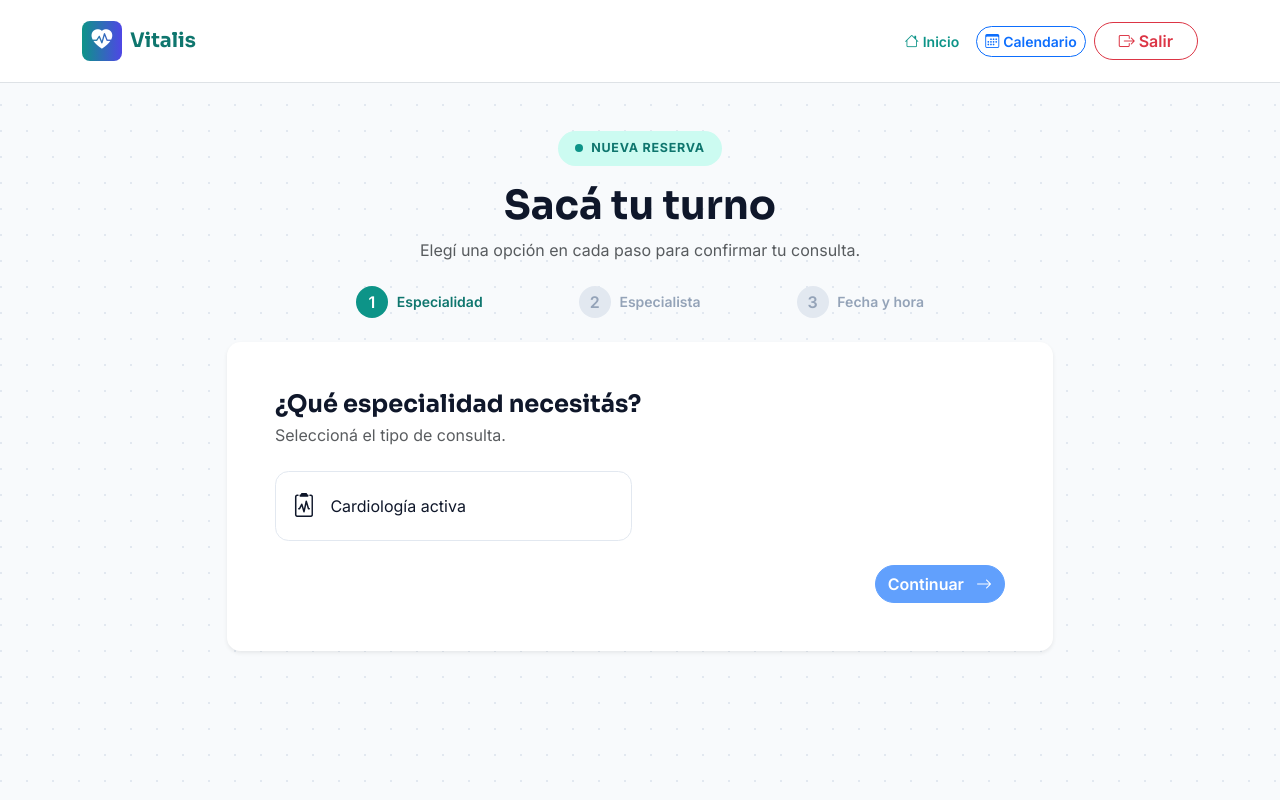
Test: SacarTurno › oculta especialidades y especialistas inactivos al reservar
Click the button "Cardiología activa" at (454, 506), box [275,470,632,540]
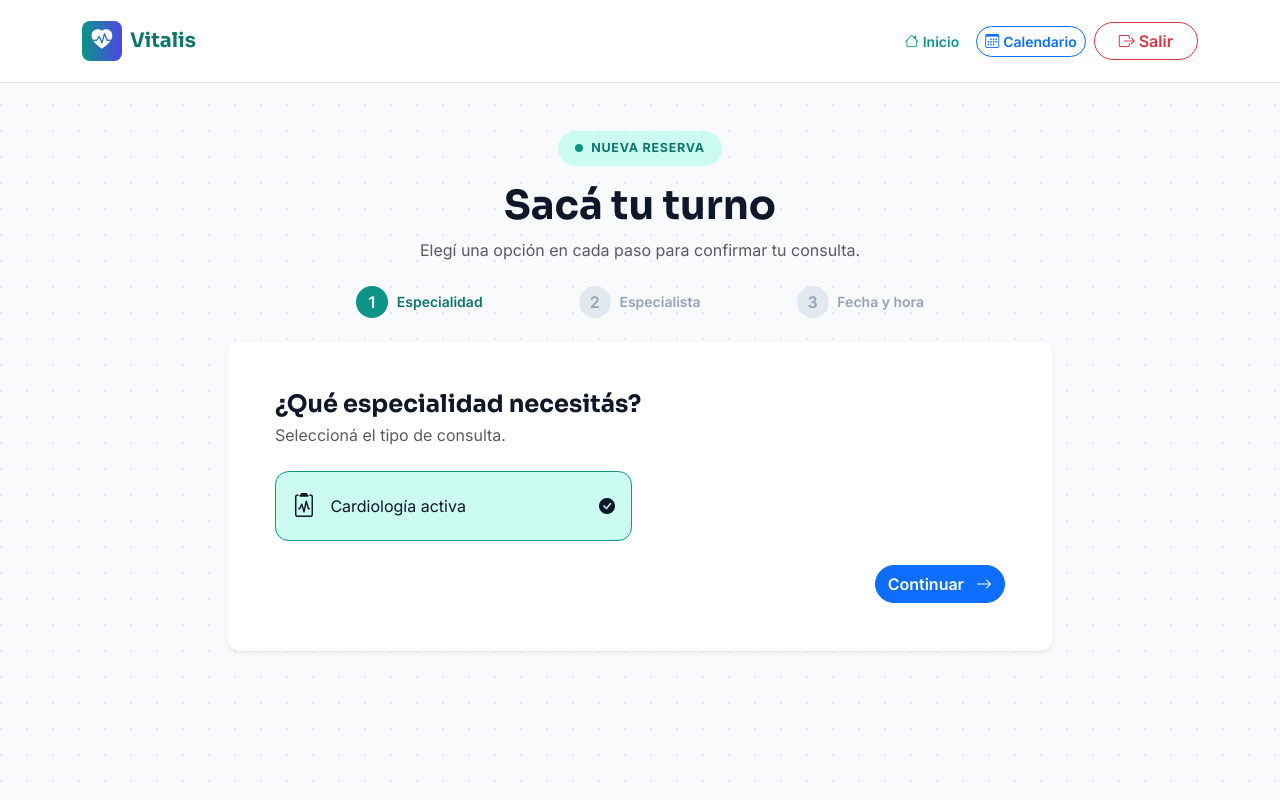
Click the button "Continuar" at (940, 584), box [875,564,1005,602]
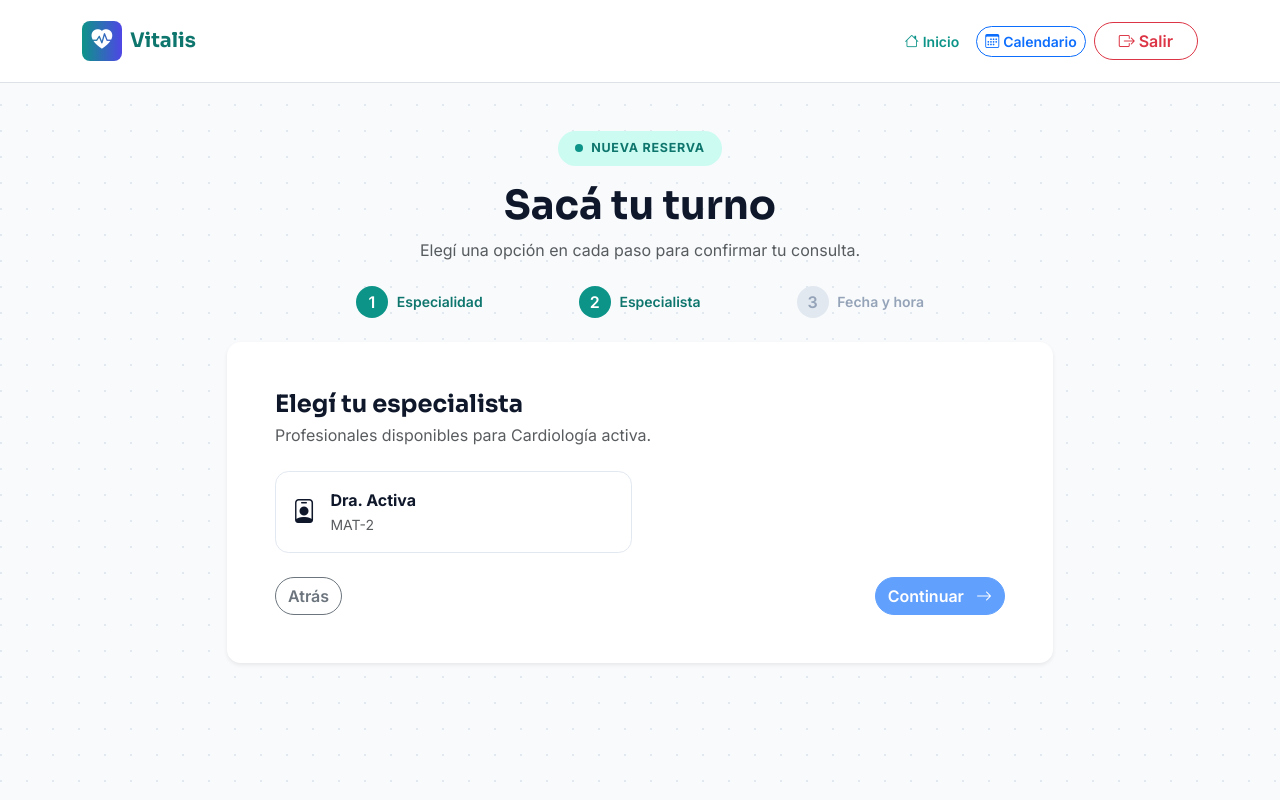
Check: the button "Dra. Activa MAT-2" is shown, box [275,470,632,552]
